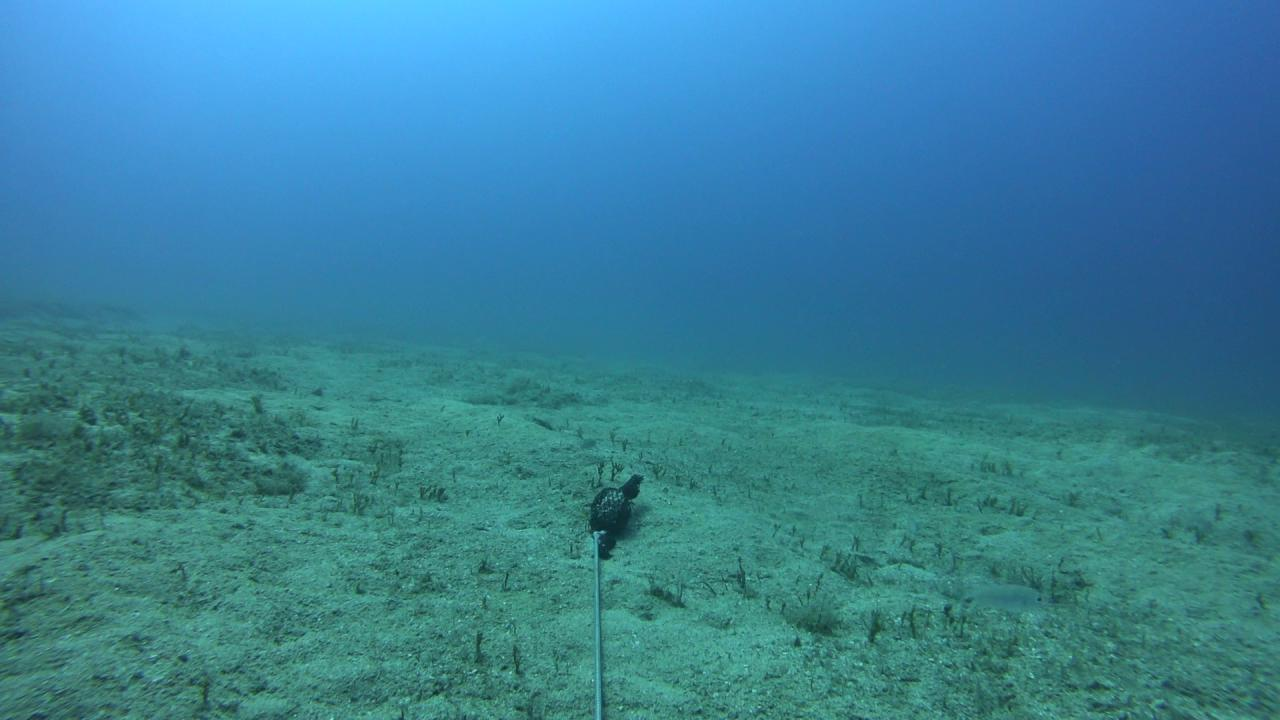pagellus: (955, 584, 1045, 613)
